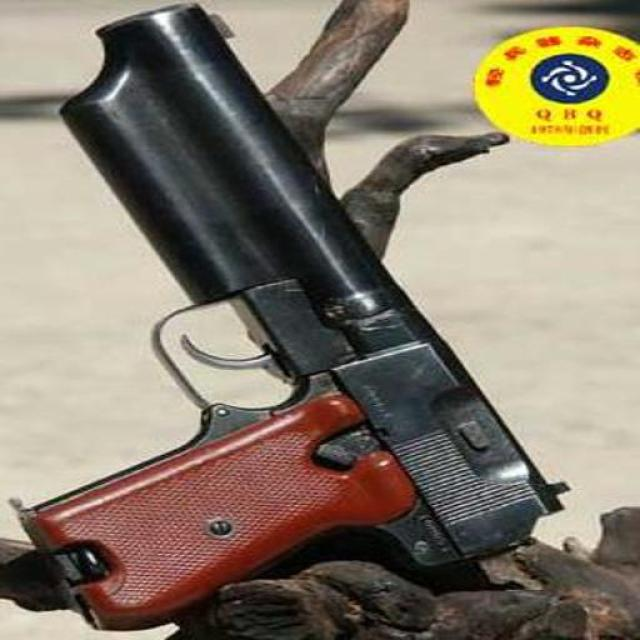pistol: (9, 1, 571, 630)
